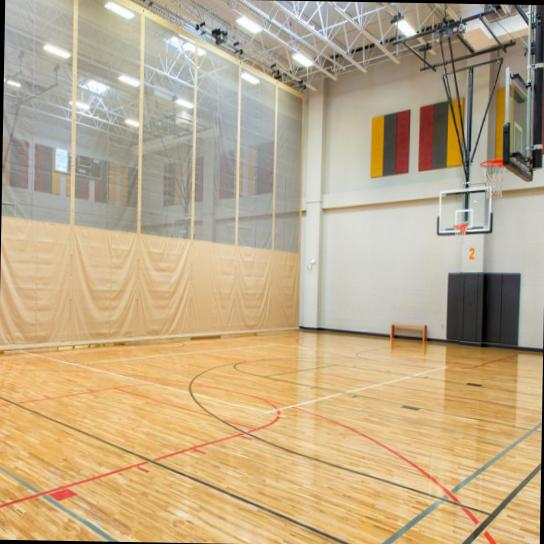basketball-hoop: (478, 156, 508, 202), (450, 220, 466, 240)
